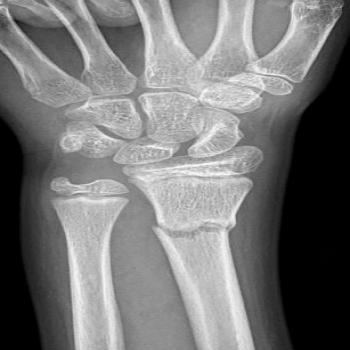Fracture: (140, 211, 250, 247)
